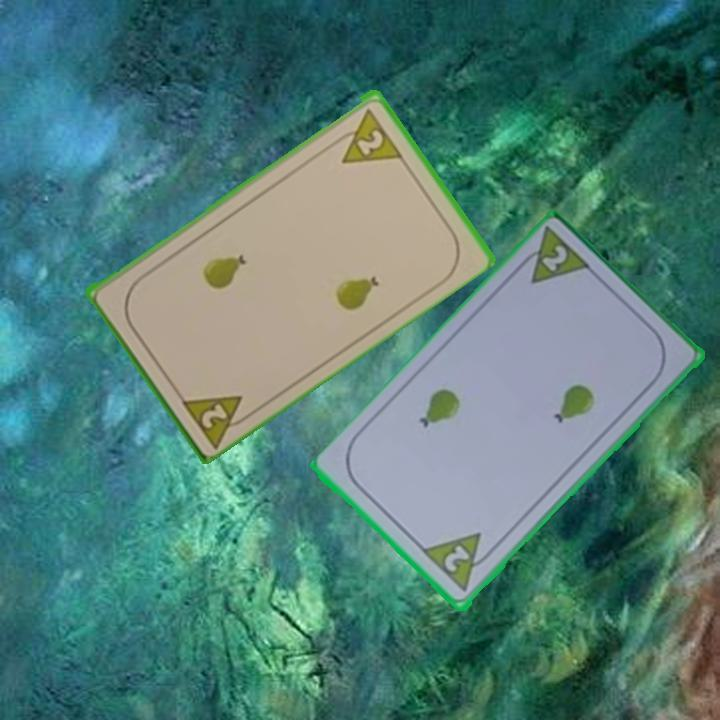2p: (511, 224, 595, 289), (328, 104, 404, 167), (440, 542, 473, 576), (197, 399, 231, 431)
